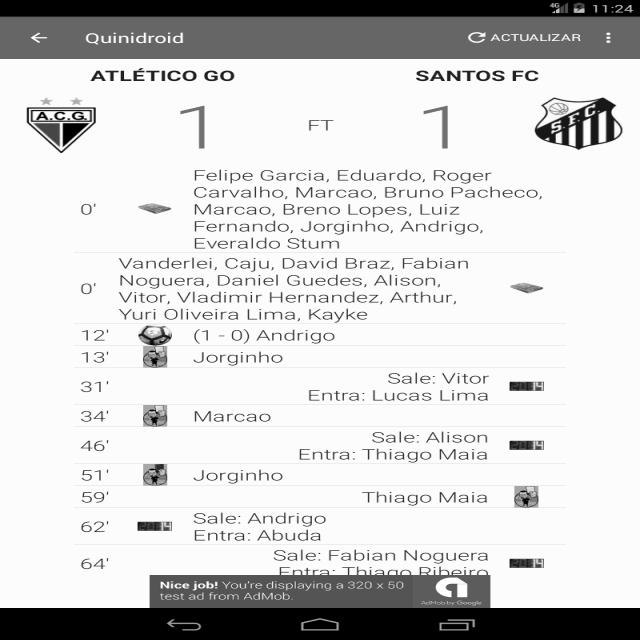ImageButton: (24, 29, 57, 46), (466, 29, 485, 46), (599, 29, 617, 46)
ImageView: (526, 94, 629, 152), (24, 96, 102, 158), (138, 322, 172, 370), (511, 485, 544, 509), (140, 461, 170, 487), (136, 202, 178, 216), (506, 379, 547, 392), (144, 404, 167, 426), (508, 281, 544, 295), (136, 520, 173, 532)
TextView: (191, 166, 488, 235), (114, 254, 472, 304), (189, 510, 333, 542), (293, 446, 496, 464), (158, 579, 408, 591), (88, 66, 239, 84), (411, 66, 542, 84), (80, 29, 194, 47), (386, 371, 490, 387), (189, 407, 280, 425), (488, 30, 587, 44)
